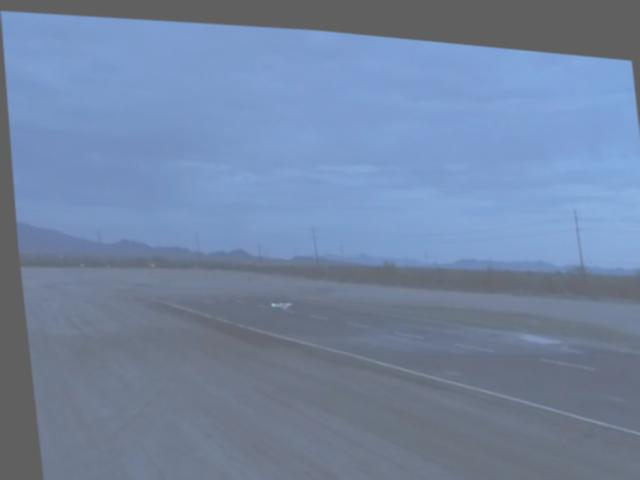plane: (264, 292, 290, 306)
